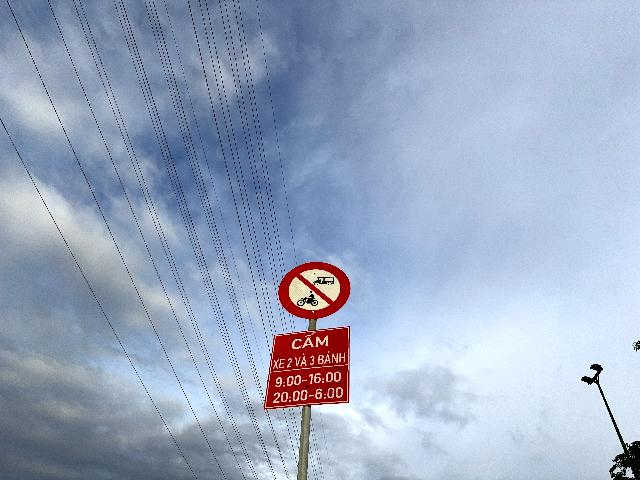cam-xe-2-banh-3-banh: (278, 261, 351, 319)
